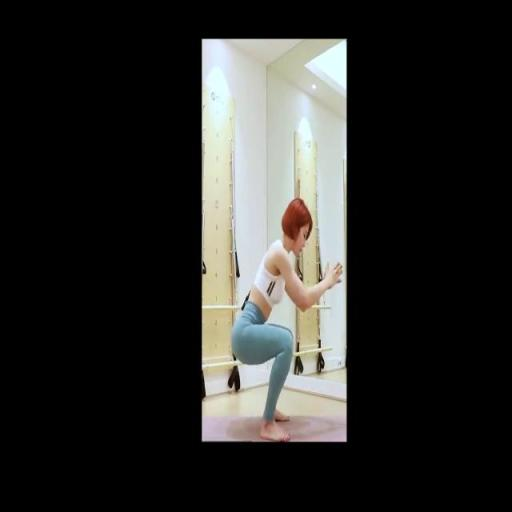Normal_BrenchPress: (228, 198, 344, 443)
